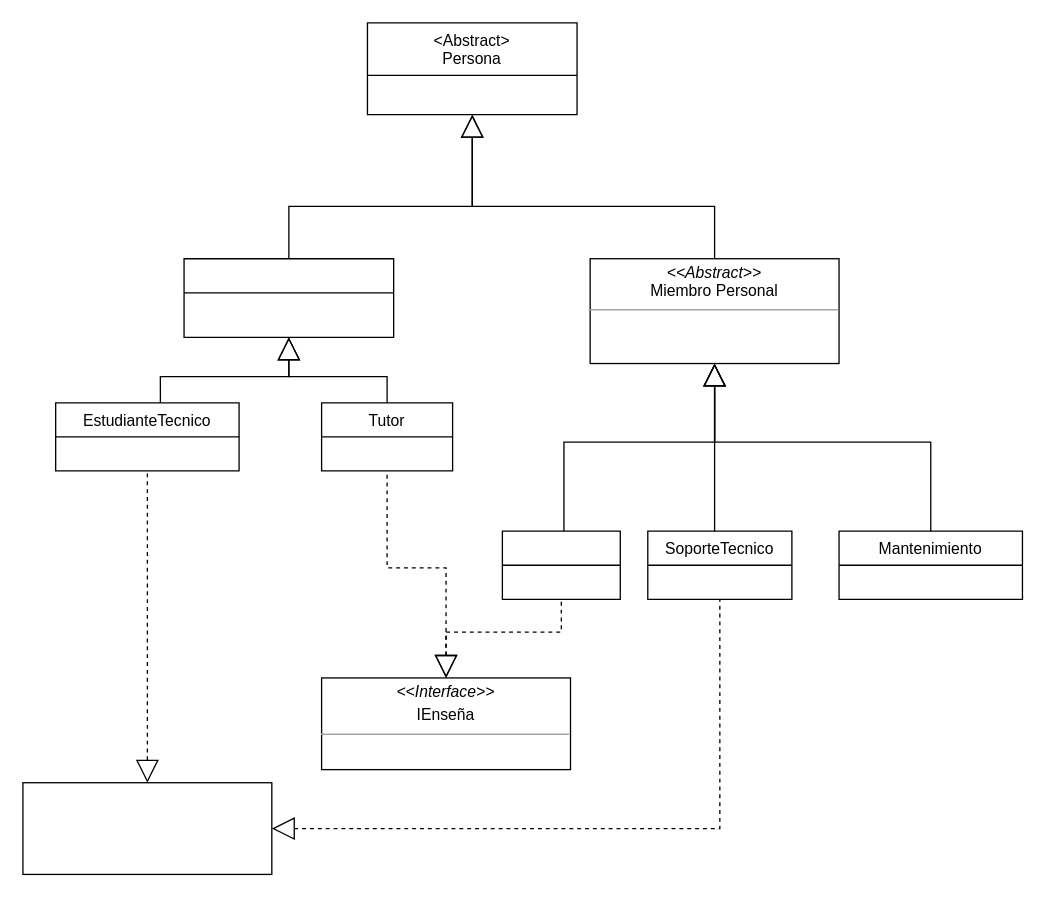
This 1045x897 diagram has some shape labels left out. Each missing label, with the centre of its shape:
<<Interface>> ITecnico: (x=147, y=827)
Estudiante: (x=288, y=297)
Profesor: (x=560, y=564)
